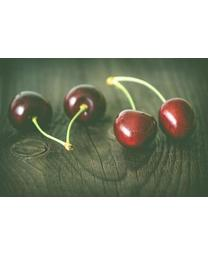cherry: (8, 90, 52, 133), (115, 108, 157, 149), (62, 85, 107, 122), (159, 98, 196, 141)
